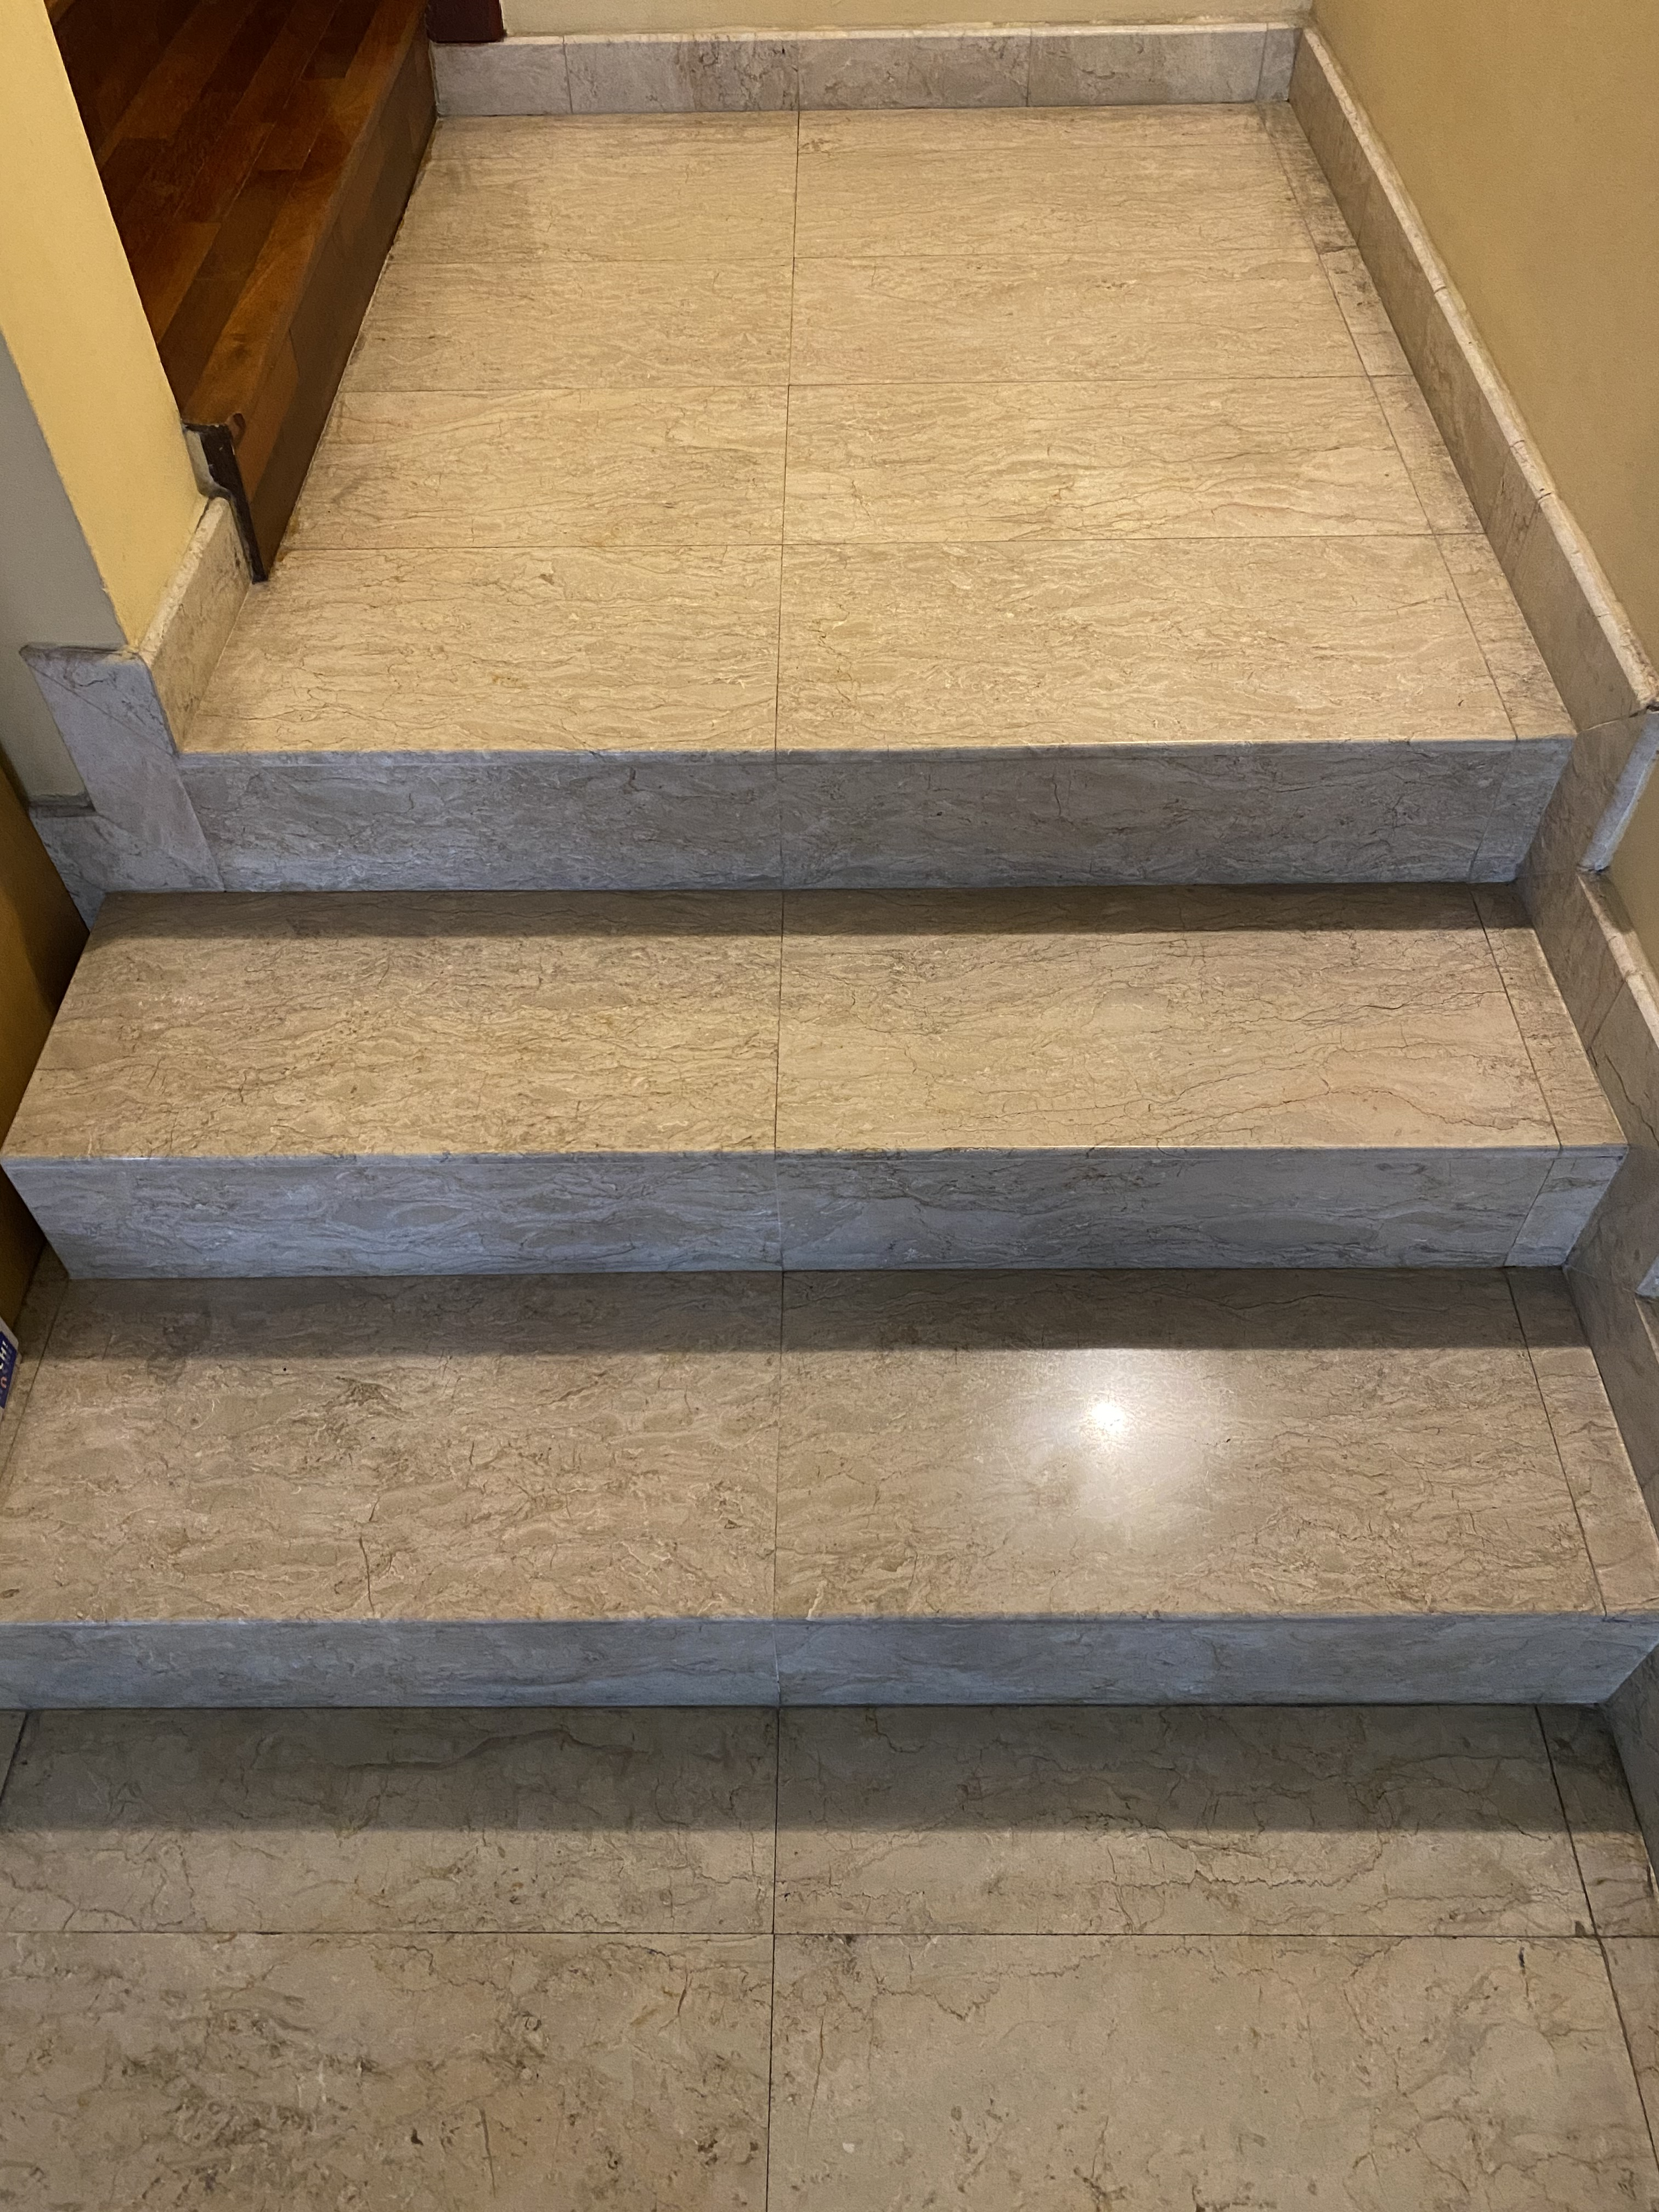upstairs: (249, 637, 1525, 1838)
